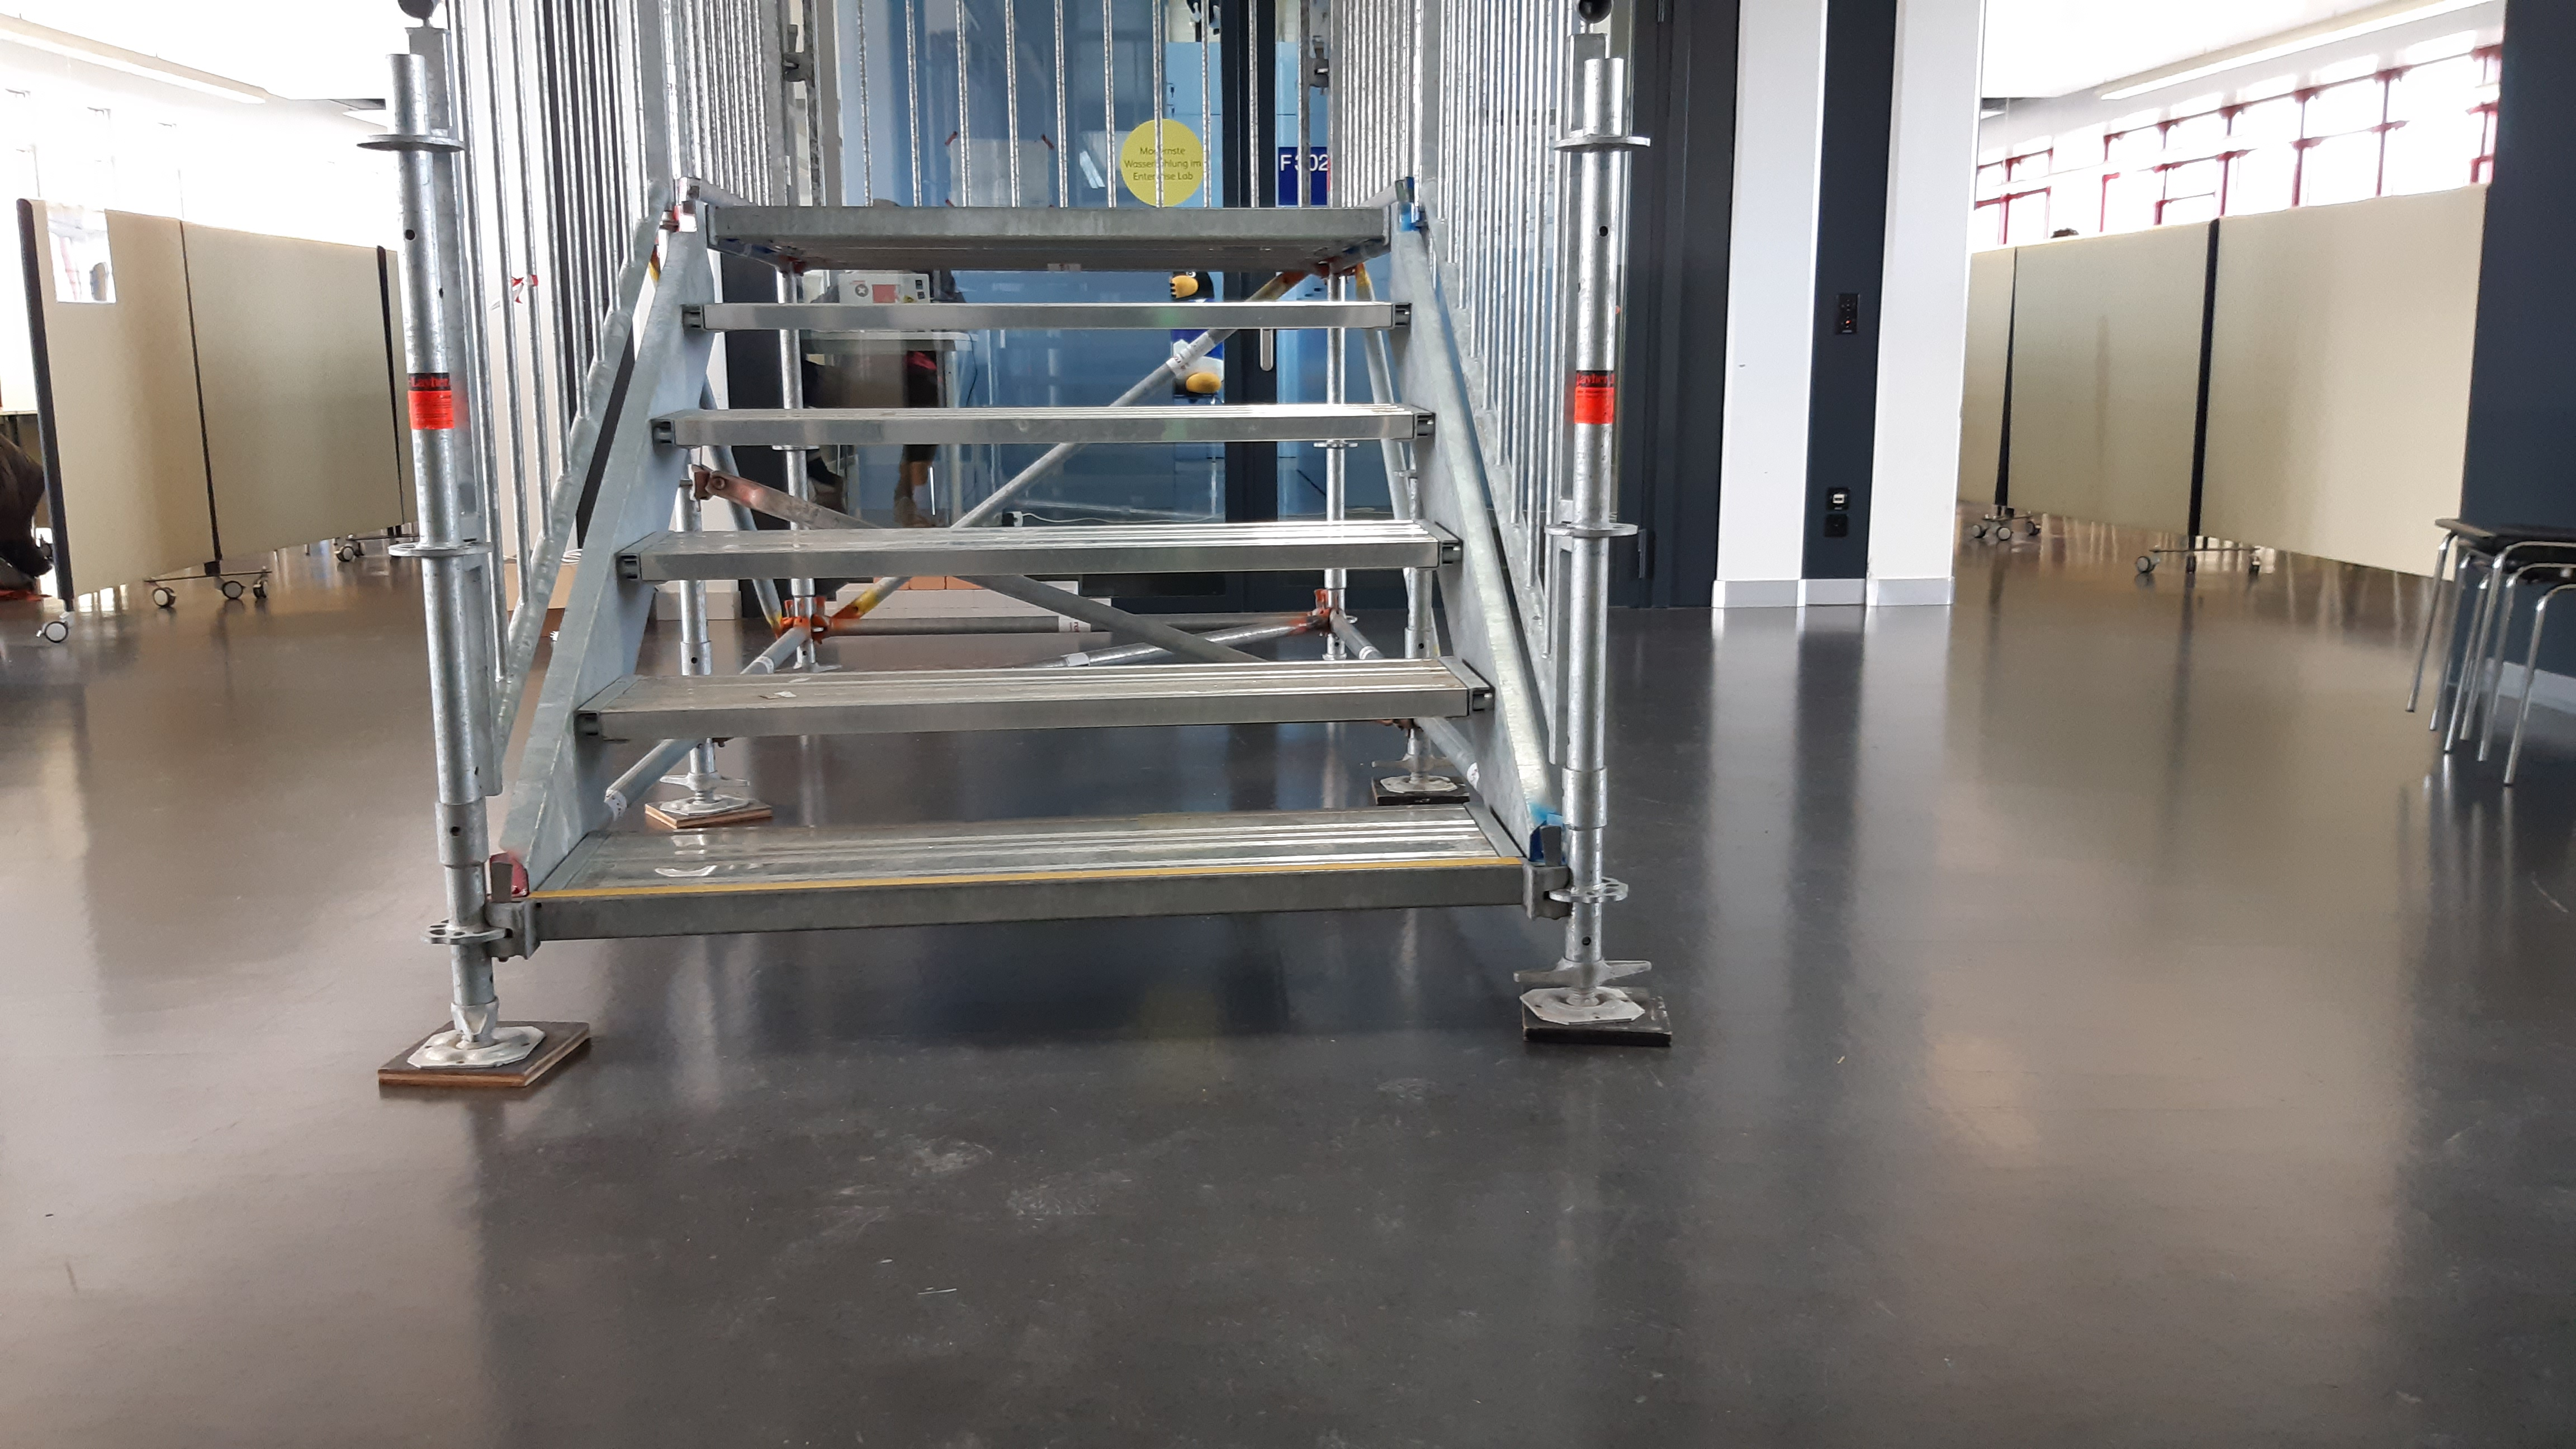edge: (541, 865, 1520, 929), (579, 686, 1488, 736), (617, 536, 1463, 580), (649, 410, 1438, 444), (676, 297, 1415, 329), (702, 203, 1384, 235)
stairs: (377, 12, 1668, 1097)
steps: (536, 202, 1532, 936)
